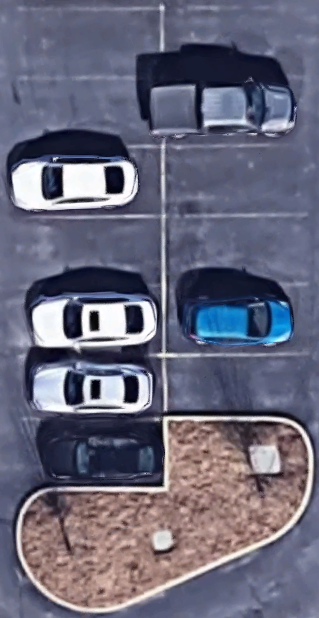Occupied: (18, 285, 164, 355), (18, 147, 163, 217), (18, 420, 165, 489), (164, 285, 307, 354), (162, 78, 305, 146), (18, 355, 166, 420)
Vacant: (164, 146, 307, 217), (17, 8, 162, 78), (161, 8, 306, 78), (17, 78, 163, 147), (18, 217, 165, 285), (165, 216, 307, 285), (165, 355, 306, 417)
